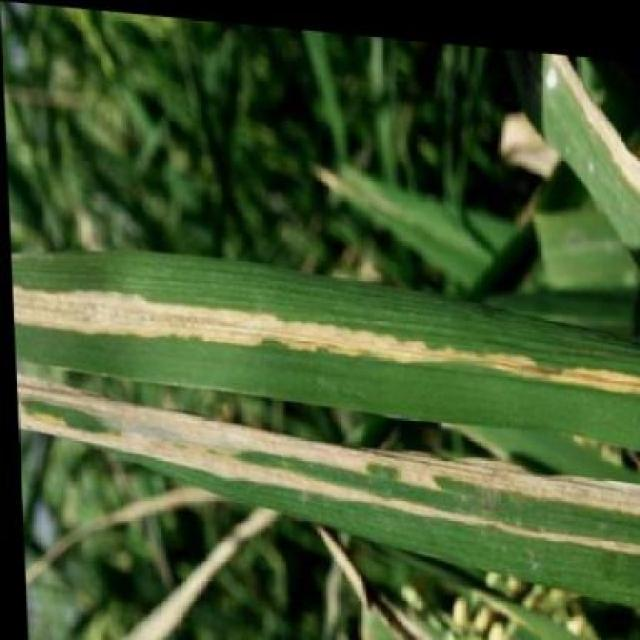Brown_Spot: (12, 380, 640, 560), (12, 275, 640, 396)
